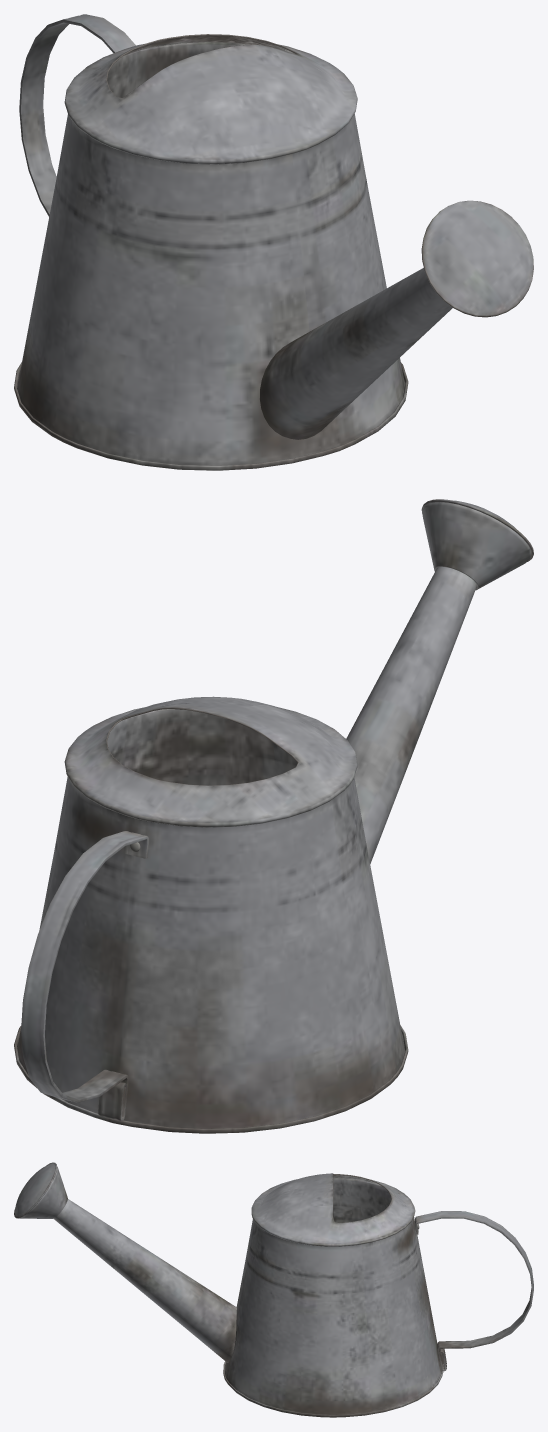
The model's file is watering_can.glb.
3 renders of one model, top to bottom at view 1: azimuth 30°, elevation 25°; view 2: azimuth 150°, elevation 25°; view 3: azimuth 270°, elevation 25°, orthographic. The views are drawn at different scales.
Parts seen in each view (by area): view 1: watering_can_metal_01; view 2: watering_can_metal_01; view 3: watering_can_metal_01.
Part boxes in pixels (x1=…): watering_can_metal_01: x1=14, y1=14, x2=533, y2=470; watering_can_metal_01: x1=14, y1=499, x2=533, y2=1133; watering_can_metal_01: x1=14, y1=1162, x2=533, y2=1417.
Size of the model in its own units: 0.191 by 0.1968 by 0.4523.
1 material, 1 textured.
